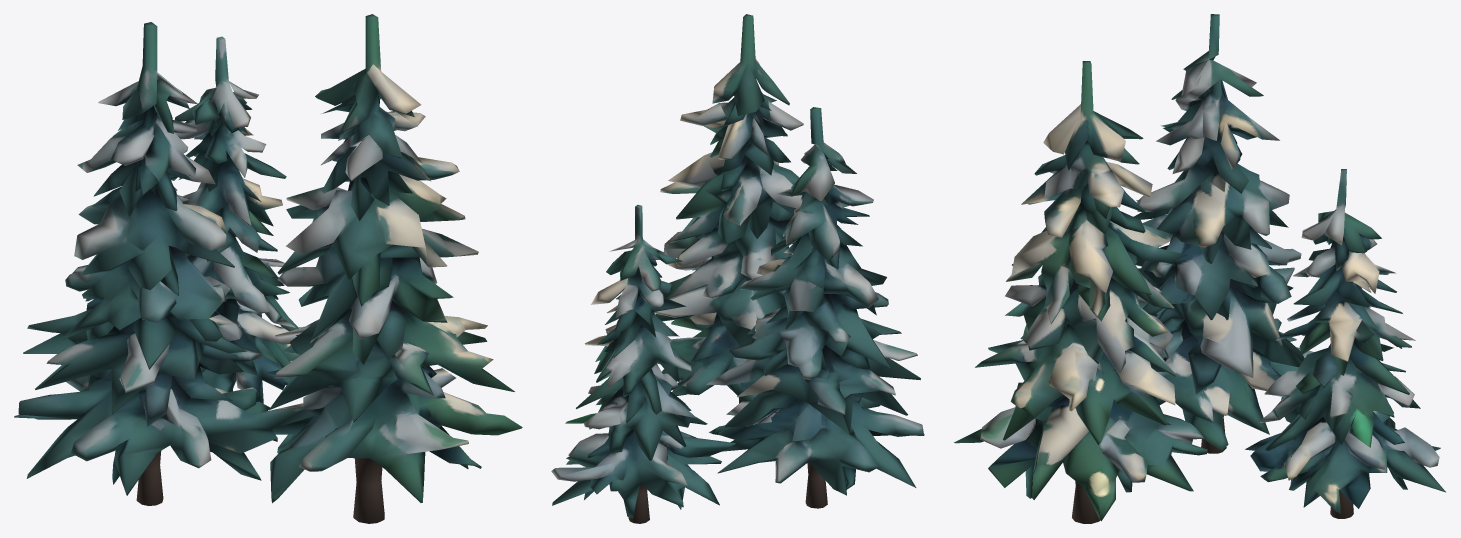
Rendered from pine-cluster.glb.
3 views of the same model, side by side, from view 1: azimuth 30°, elevation 25°; view 2: azimuth 150°, elevation 25°; view 3: azimuth 270°, elevation 25° (orthographic). The views are drawn at different scales.
Visible parts, largest first — view 1: tripo_node_cbeb1a14-17f9-4e42-bcf7-7ba1ed3f8773; view 2: tripo_node_cbeb1a14-17f9-4e42-bcf7-7ba1ed3f8773; view 3: tripo_node_cbeb1a14-17f9-4e42-bcf7-7ba1ed3f8773.
Boxes of the visible parts, x1,y1,x2,y2 form: tripo_node_cbeb1a14-17f9-4e42-bcf7-7ba1ed3f8773: (14, 14, 522, 523); tripo_node_cbeb1a14-17f9-4e42-bcf7-7ba1ed3f8773: (551, 14, 924, 523); tripo_node_cbeb1a14-17f9-4e42-bcf7-7ba1ed3f8773: (954, 14, 1445, 523).
Bounding box in the file's own units: 0.8297 × 1 × 0.9785.
1 material, 1 textured.
